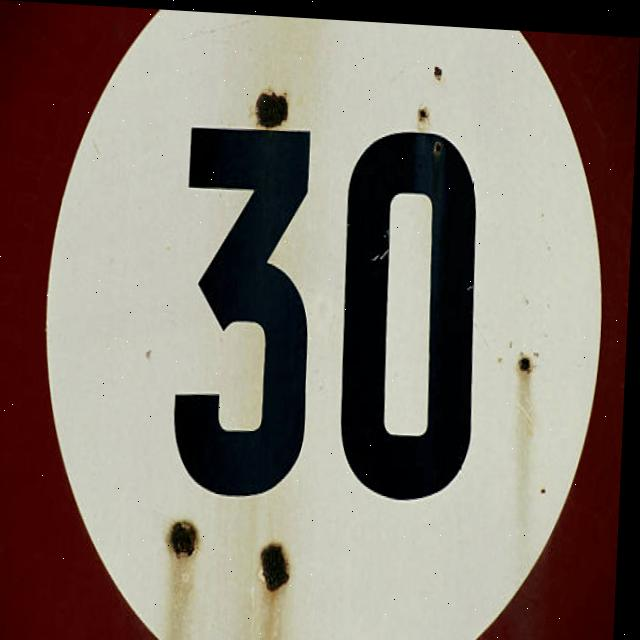Speed limit 30: (31, 7, 623, 640)
